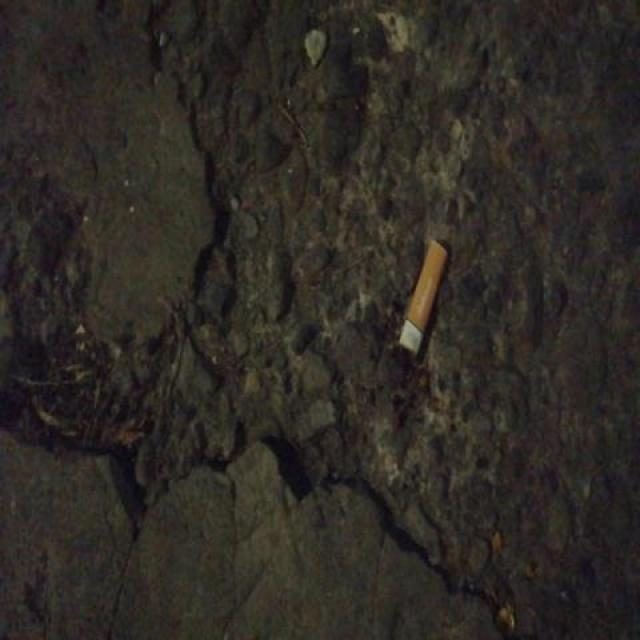non-organic waste: (396, 232, 452, 360)
